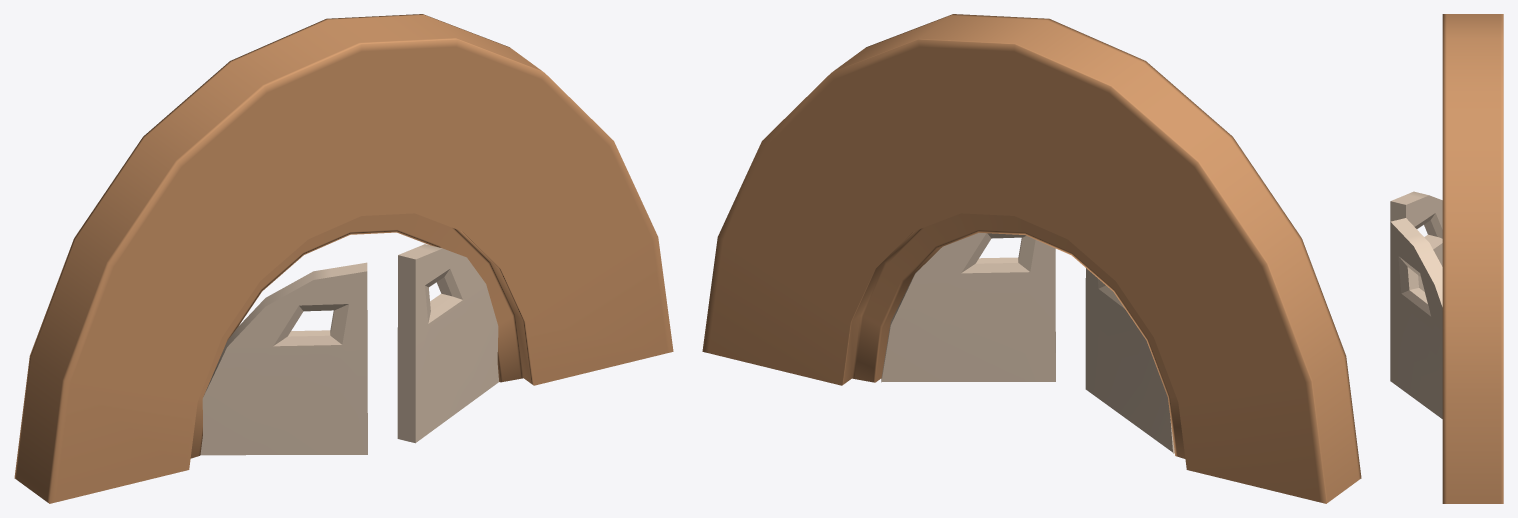
Rendered from Tunel_Out.fbx.
The picture shows the model from 3 angles, left to right: view 1: azimuth 30°, elevation 25°; view 2: azimuth 150°, elevation 25°; view 3: azimuth 270°, elevation 25°; orthographic projection. The views are drawn at different scales.
Parts seen in each view (by area): view 1: polySurface1, polySurface3; view 2: polySurface1, polySurface3; view 3: polySurface1, polySurface3.
Boxes of the visible parts, x1,y1,x2,y2 form: polySurface1: [14, 14, 673, 503]; polySurface3: [200, 244, 498, 455]; polySurface1: [702, 14, 1361, 503]; polySurface3: [881, 233, 1174, 453]; polySurface1: [1442, 14, 1503, 503]; polySurface3: [1390, 191, 1442, 418].
Size of the model in its own units: 248 by 146 by 44.99.
